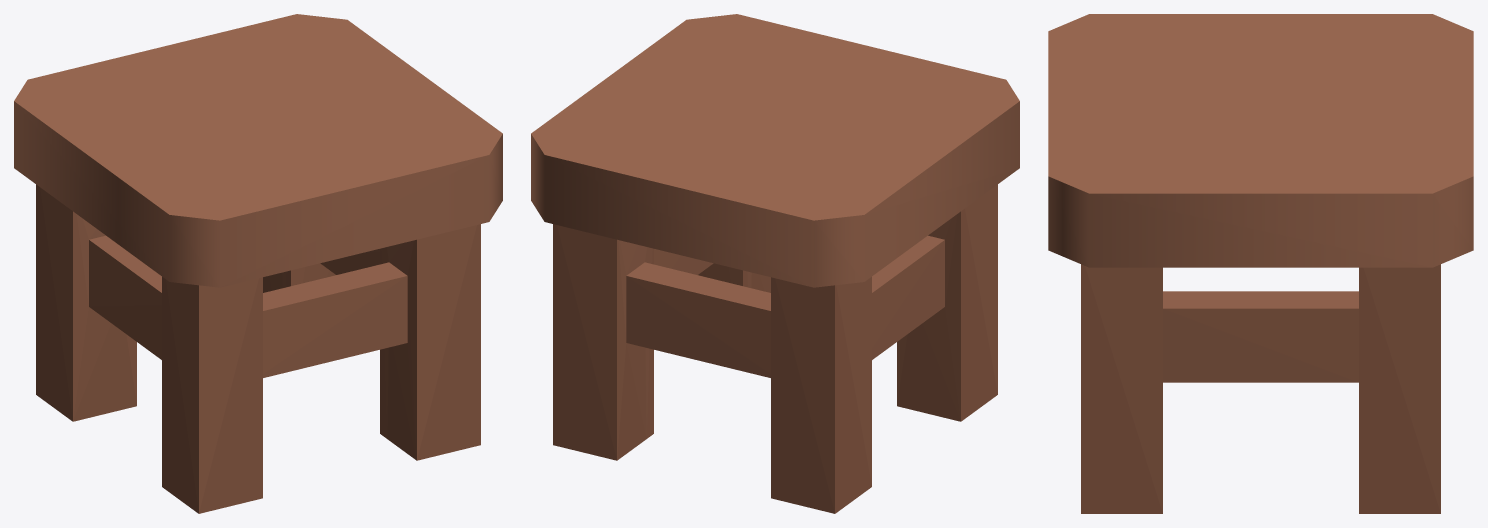
File: fantasytown_stall_stool.glb
3 views of the same model, side by side, from view 1: azimuth 30°, elevation 25°; view 2: azimuth 150°, elevation 25°; view 3: azimuth 270°, elevation 25° (orthographic). The views are drawn at different scales.
Parts seen in each view (by area): view 1: fantasytown_stall_stool; view 2: fantasytown_stall_stool; view 3: fantasytown_stall_stool.
Boxes of the visible parts, x1,y1,x2,y2 form: fantasytown_stall_stool: [14, 14, 502, 513]; fantasytown_stall_stool: [531, 14, 1019, 513]; fantasytown_stall_stool: [1048, 14, 1473, 513].
Size of the model in its own units: 0.26 by 0.2255 by 0.26.
